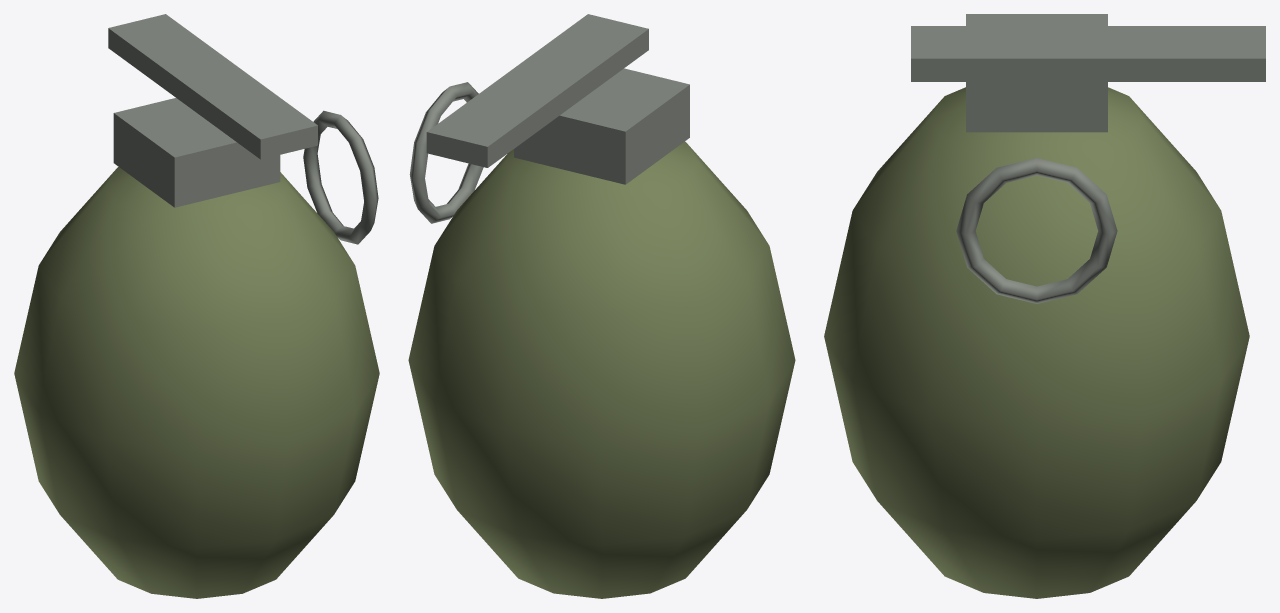
Rendered from grenade.glb.
3 renders of one model, left to right at view 1: azimuth 30°, elevation 25°; view 2: azimuth 150°, elevation 25°; view 3: azimuth 270°, elevation 25°, orthographic. The views are drawn at different scales.
Parts seen in each view (by area): view 1: GrenadeBody, GrenadeLever, GrenadeCap, GrenadePinRing; view 2: GrenadeBody, GrenadeLever, GrenadeCap, GrenadePinRing; view 3: GrenadeBody, GrenadeLever, GrenadeCap, GrenadePinRing.
Boxes of the visible parts, left/top/right/bottom form: GrenadeBody: left=14, top=167, right=379, bottom=598; GrenadeLever: left=108, top=14, right=317, bottom=159; GrenadeCap: left=113, top=98, right=280, bottom=207; GrenadePinRing: left=303, top=110, right=378, bottom=244; GrenadeBody: left=408, top=141, right=795, bottom=598; GrenadeLever: left=426, top=14, right=648, bottom=167; GrenadeCap: left=514, top=68, right=689, bottom=184; GrenadePinRing: left=409, top=82, right=483, bottom=223; GrenadeBody: left=824, top=87, right=1249, bottom=598; GrenadeLever: left=911, top=26, right=1265, bottom=81; GrenadeCap: left=966, top=14, right=1107, bottom=132; GrenadePinRing: left=956, top=158, right=1117, bottom=303.
Size of the model in its own units: 0.066 by 0.097 by 0.0685.
